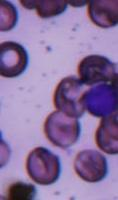L: (84, 80, 117, 117)
